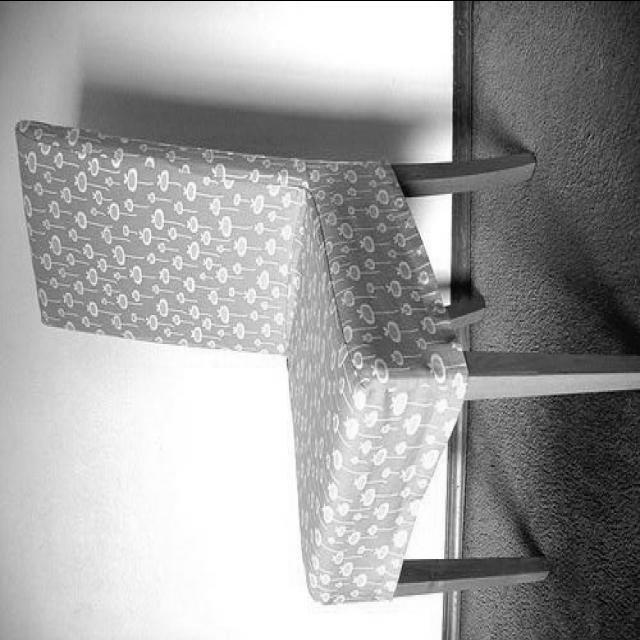chair: (18, 115, 640, 610)
